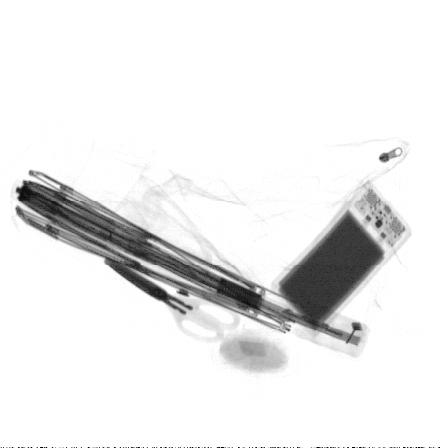Powerbank: (265, 177, 415, 341)
Scissors: (102, 256, 241, 344)
